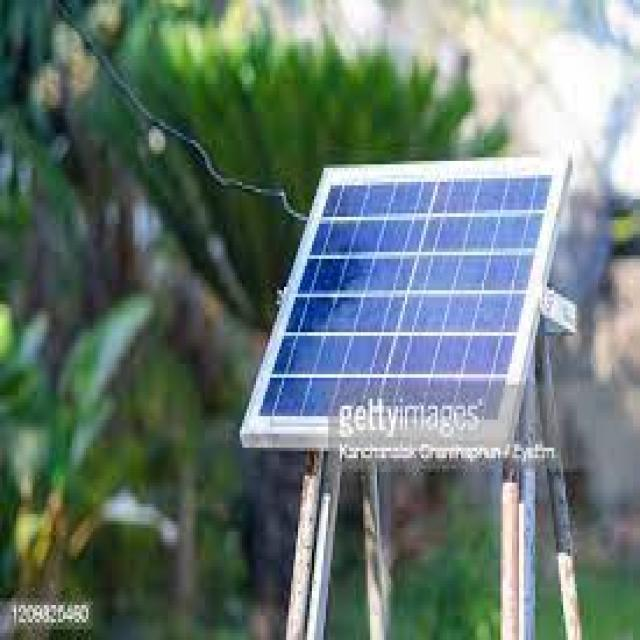no faulty: (240, 153, 567, 442)
